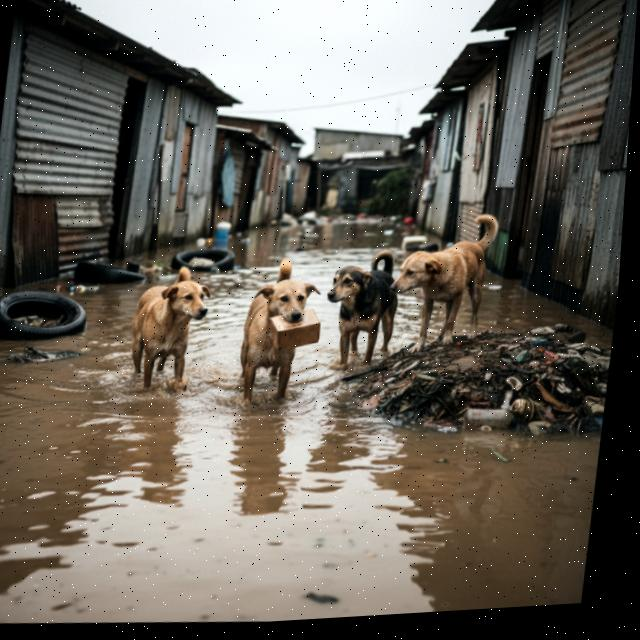dog: (382, 205, 510, 364), (230, 254, 330, 413), (115, 263, 219, 404), (316, 247, 410, 376)
